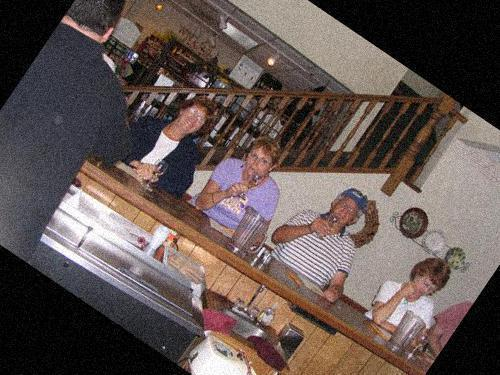Lavaplatos: (198, 265, 315, 375)
